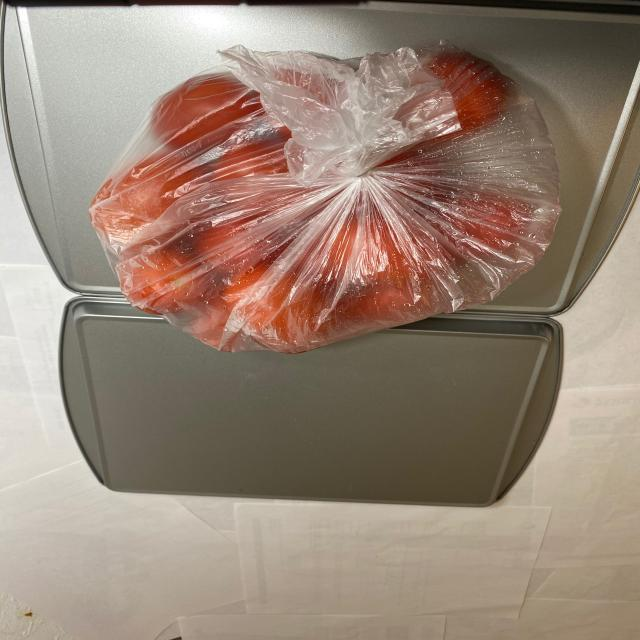tomato: (92, 47, 554, 353)
